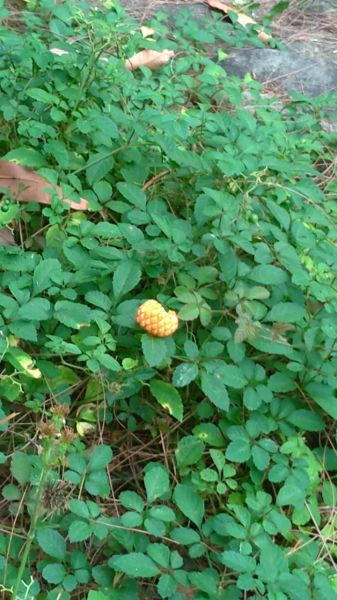eggs: (130, 294, 184, 342)
